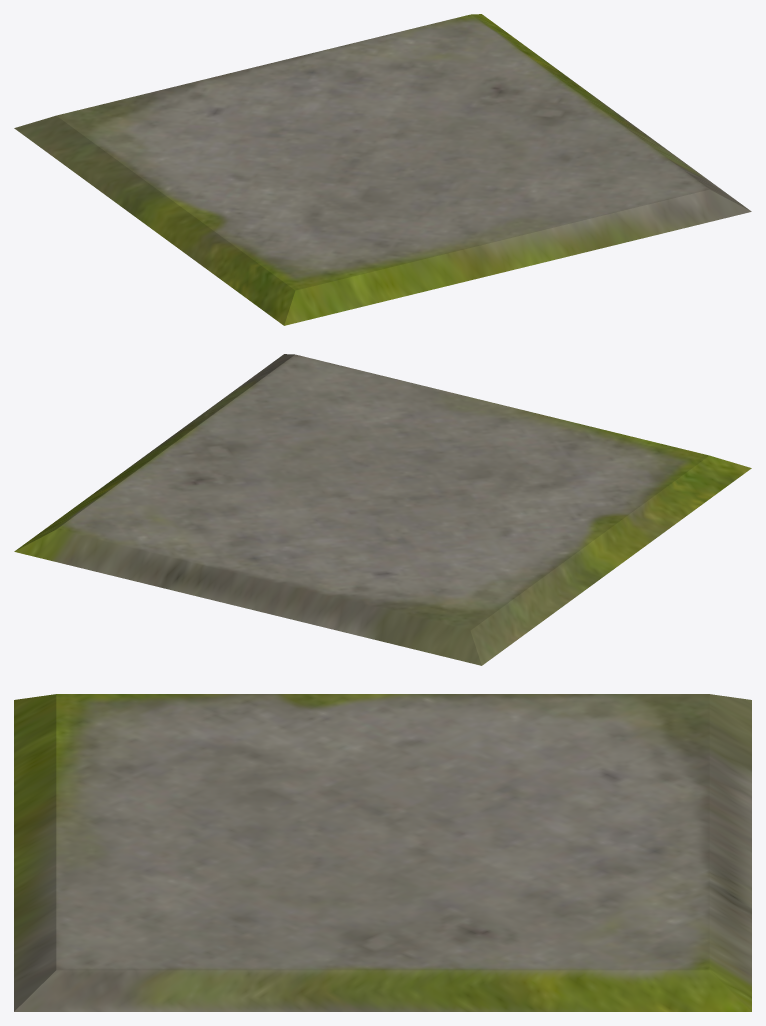
The model's file is bujian_12.fbx.
3 views of the same model, one above another, from view 1: azimuth 30°, elevation 25°; view 2: azimuth 150°, elevation 25°; view 3: azimuth 270°, elevation 25° (orthographic). The views are drawn at different scales.
Parts seen in each view (by area): view 1: pCube1; view 2: pCube1; view 3: pCube1.
Part boxes in pixels (box(x1,y1,x2,y2)): pCube1: box(14, 14, 751, 325); pCube1: box(14, 354, 751, 665); pCube1: box(14, 694, 751, 1011).
Size of the model in its own units: 1.13 by 0.0402 by 1.13.
